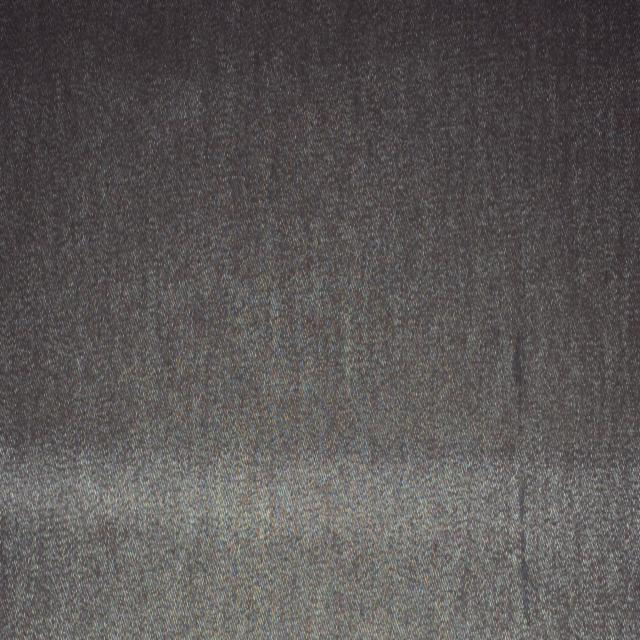Stain: (509, 333, 532, 627)
